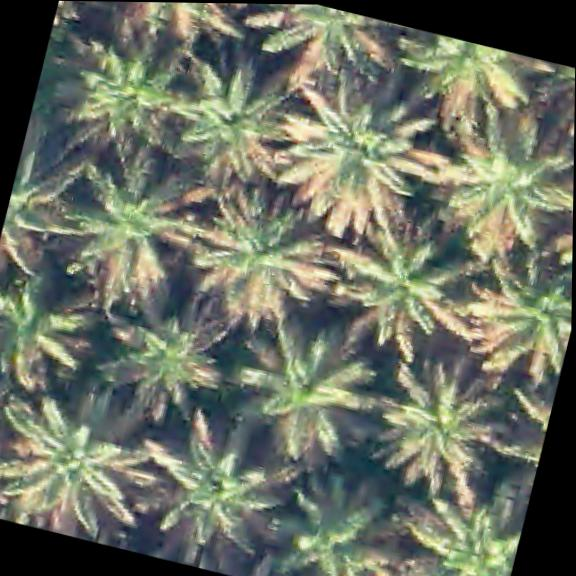oilpalm: (266, 65, 464, 251), (175, 171, 352, 345), (215, 304, 389, 480), (0, 377, 171, 553), (47, 153, 220, 319), (130, 408, 292, 576), (353, 354, 514, 520), (152, 59, 311, 224), (419, 103, 575, 269), (48, 30, 202, 190), (320, 222, 474, 373), (101, 291, 250, 436), (237, 4, 406, 106), (259, 468, 414, 576), (0, 145, 91, 317), (461, 254, 572, 389), (0, 270, 101, 418), (392, 26, 540, 123), (81, 1, 245, 74), (389, 491, 525, 576), (0, 383, 18, 516)
